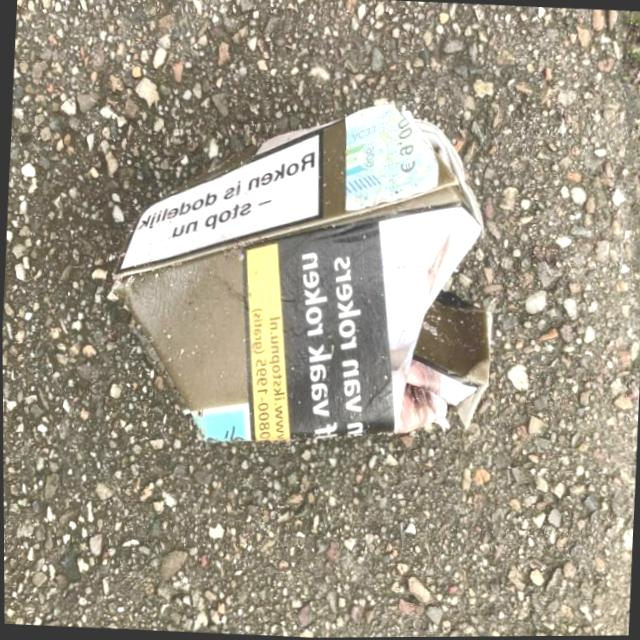Paper: (93, 83, 511, 465)
